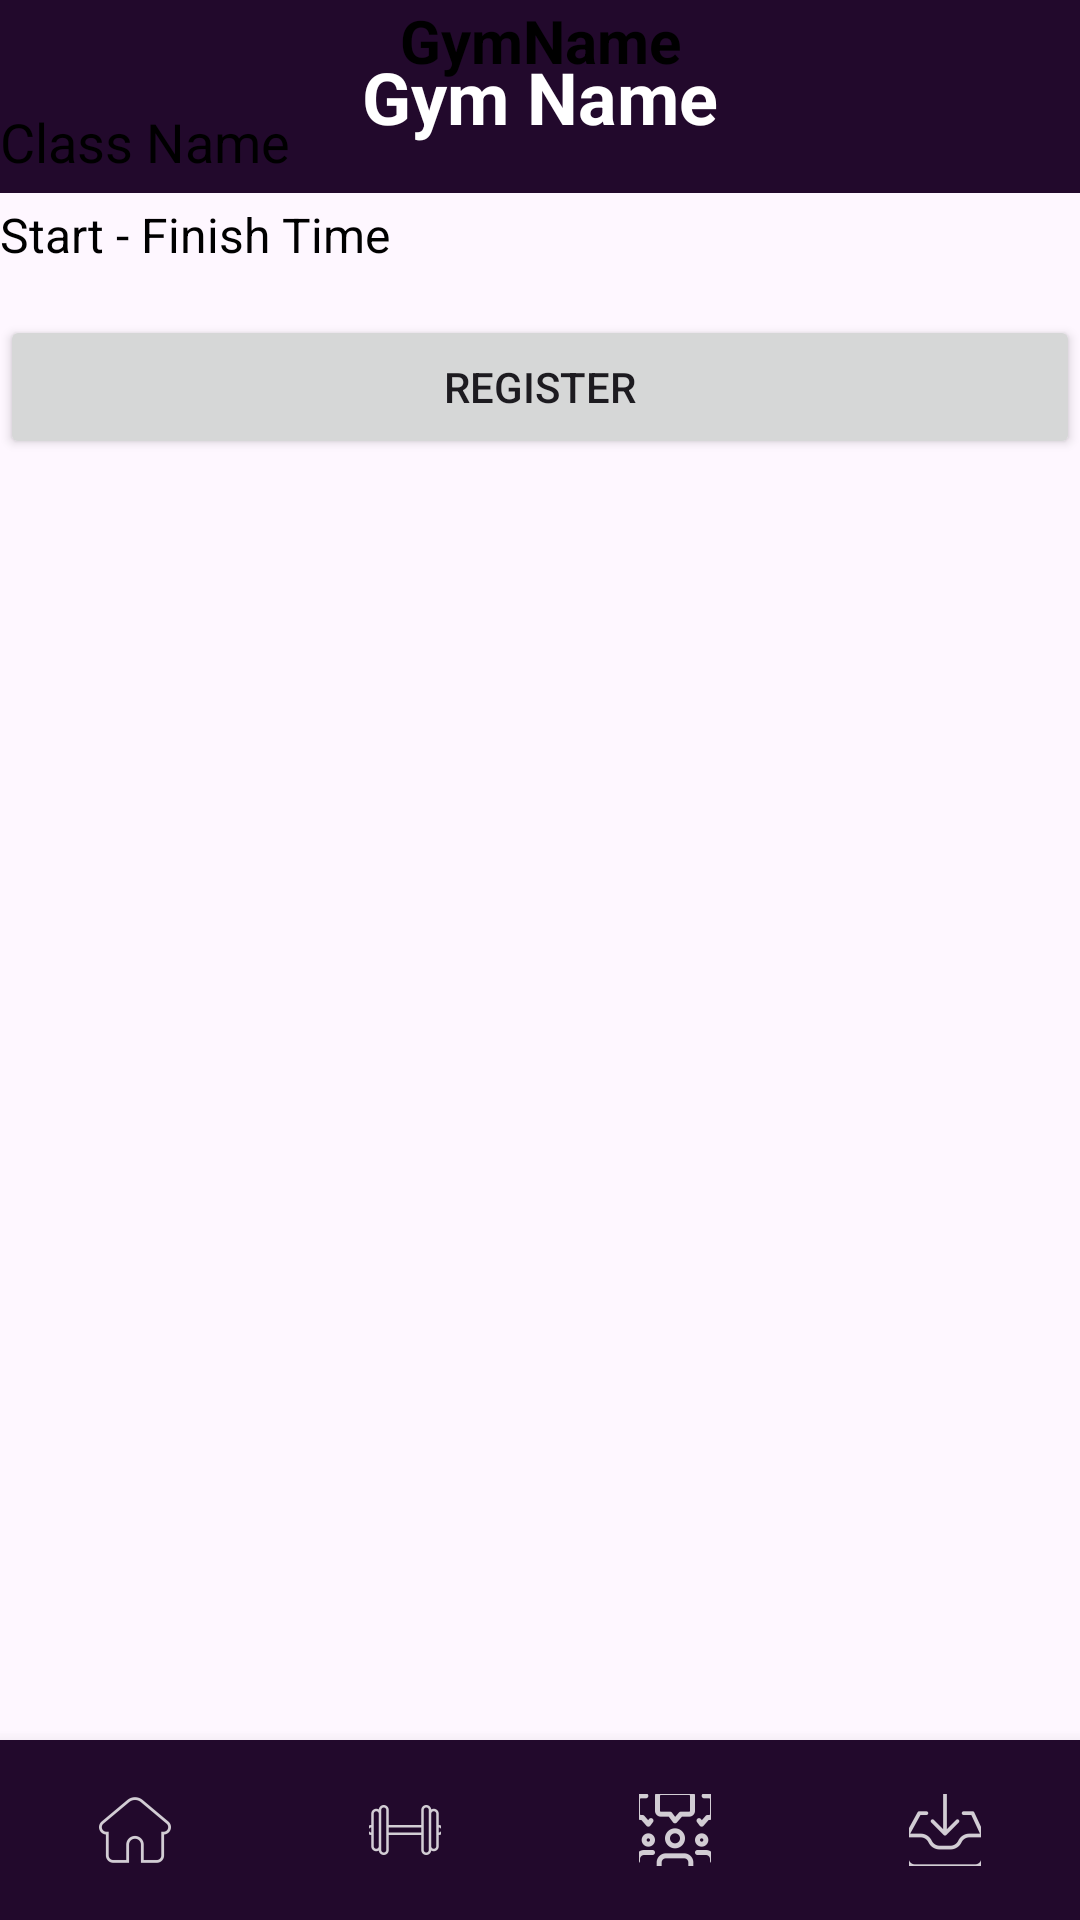

Named icons in this screenshot (1080 x 1920) and their centers, point (x, y):
forum: point (675, 1830)
home: point (135, 1830)
inbox: point (945, 1830)
workout: point (405, 1830)
